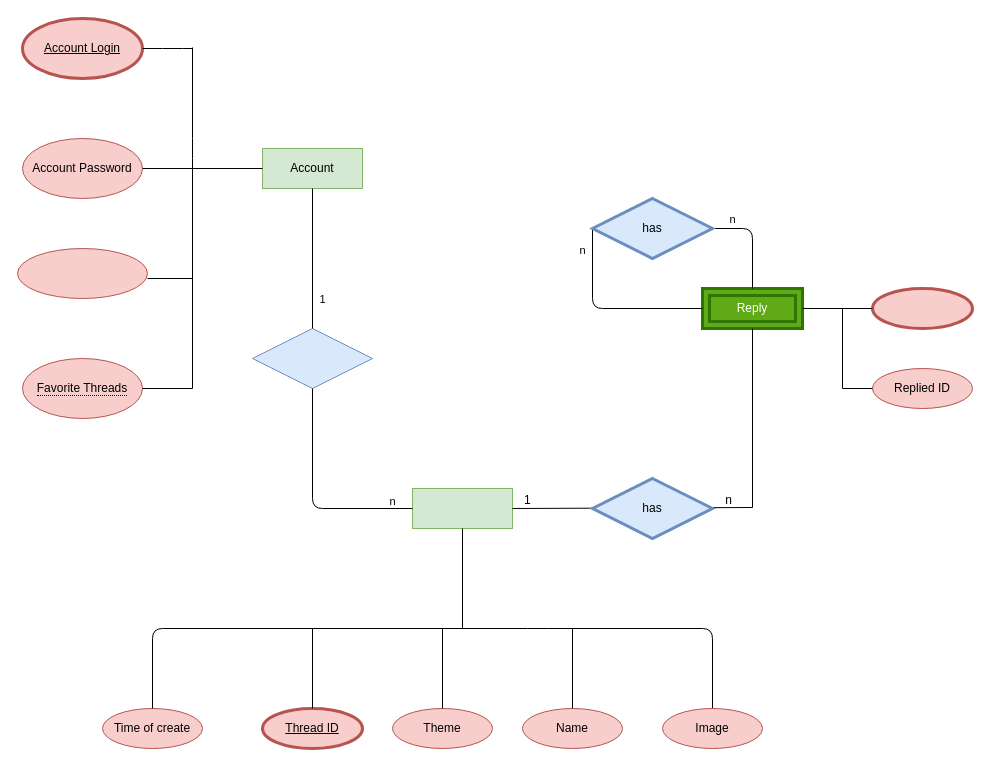
The diagram is 991 pixels wide and 767 high, and some of its shapes have lost their labels. The shapes that lost their labels are listed below. From the top down, each one's centre as x and y in pixels, then its label:
At [82,273]: "Email".
At [922,308]: "Reply ID".
At [312,358]: "creates".
At [462,508]: "Thread".
